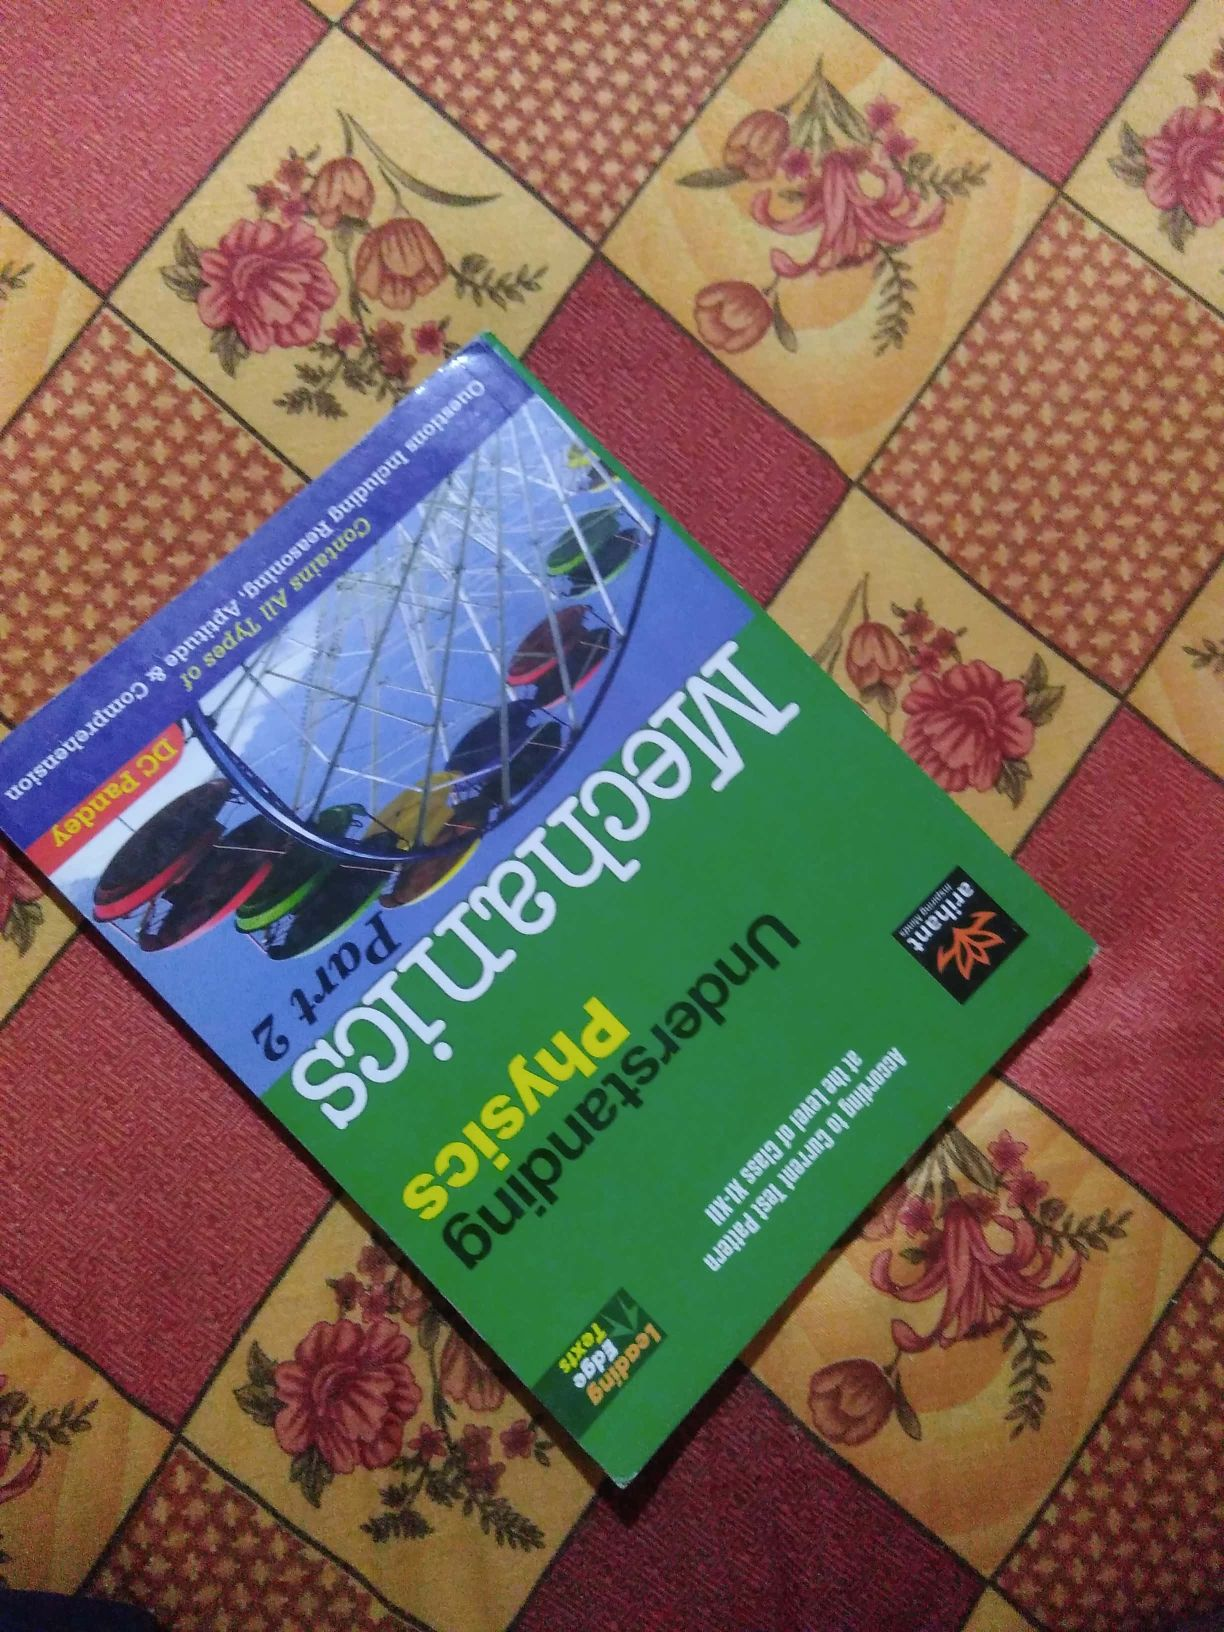mechanics: (22, 346, 1164, 1459)
